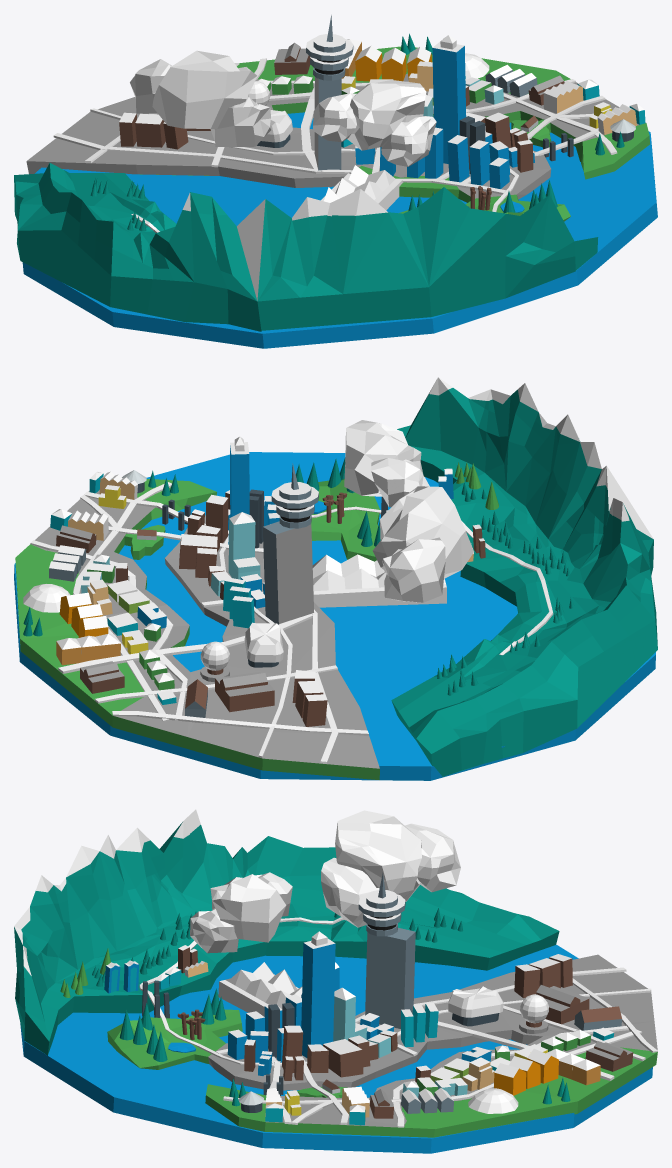
Rendered from projects.glb.
3 renders of one model, top to bottom at view 1: azimuth 30°, elevation 25°; view 2: azimuth 150°, elevation 25°; view 3: azimuth 270°, elevation 25°, orthographic.
Parts seen in each view (by area): view 1: group1971097135, group1926126815, group1656777012, group1550195885, group197357736, group918087620, group1385259583, group1602713423, group1334676454, group644830360, group664967870, group1802490509 (+23 smaller); view 2: group1971097135, group1656777012, group1926126815, group918087620, group1550195885, group664967870, group197357736, group465555899, group62122215, group1518361734, group1802490509, group592530000 (+23 smaller); view 3: group1971097135, group1926126815, group1656777012, group918087620, group1550195885, group197357736, group1385259583, group664967870, group1602713423, group465555899, group700178591, group1334676454 (+26 smaller).
Boxes of the visible parts, x1,y1,x2,y2 form: group1971097135: (14,163,598,331); group1926126815: (22,112,657,348); group1656777012: (26,46,649,221); group1550195885: (152,50,257,128); group197357736: (347,80,426,150); group918087620: (306,15,353,170); group1385259583: (432,35,466,163); group1602713423: (210,96,271,146); group1334676454: (381,115,436,166); group644830360: (53,133,506,194); group664967870: (321,165,402,210); group1802490509: (313,93,356,142); group1971097135: (391,377,657,776); group1656777012: (15,479,379,780); group1926126815: (14,452,655,780); group918087620: (263,463,318,624); group1550195885: (372,486,473,578); group664967870: (312,554,446,607); group197357736: (344,420,421,496); group465555899: (382,537,445,602); group62122215: (219,506,553,758); group1518361734: (215,672,274,712); group1802490509: (371,458,429,507); group592530000: (228,512,260,579); group1971097135: (14,809,559,1055); group1926126815: (20,945,652,1153); group1656777012: (107,954,657,1137); group918087620: (358,872,415,1028); group1550195885: (335,810,421,901); group197357736: (210,874,286,942); group1385259583: (301,931,335,1057); group664967870: (218,962,302,1016); group1602713423: (321,857,379,927); group465555899: (405,823,460,892); group700178591: (448,986,503,1026); group1334676454: (190,909,238,953).
Bounding box in the file's own units: 2.94 × 1.01 × 2.97.
